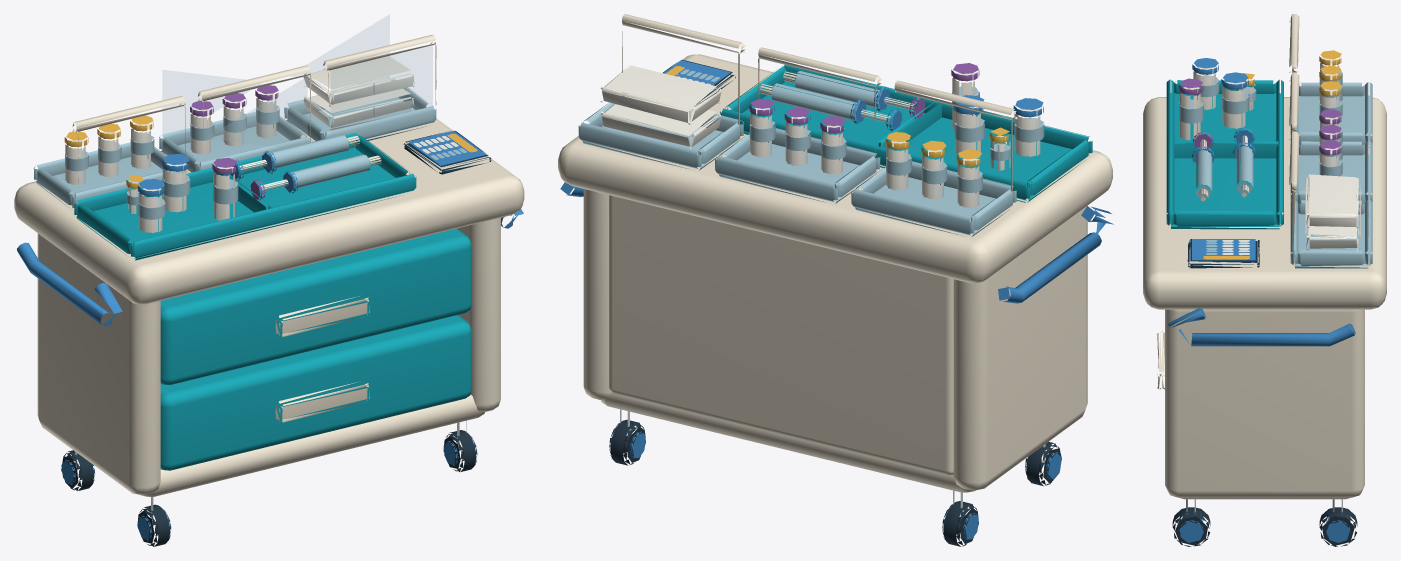
The model's file is SedaPrep_standard.glb.
3 views of the same model, side by side, from view 1: azimuth 30°, elevation 25°; view 2: azimuth 150°, elevation 25°; view 3: azimuth 270°, elevation 25° (orthographic). The views are drawn at different scales.
Visible parts, largest first — view 1: Static_CRNA_Gameplay_Atlas_PBR, Static_CRNA_Readable_Glass_Alpha; view 2: Static_CRNA_Gameplay_Atlas_PBR; view 3: Static_CRNA_Gameplay_Atlas_PBR.
Boxes of the visible parts, x1,y1,x2,y2 form: Static_CRNA_Gameplay_Atlas_PBR: (14, 34, 524, 546); Static_CRNA_Readable_Glass_Alpha: (162, 14, 432, 147); Static_CRNA_Gameplay_Atlas_PBR: (558, 14, 1113, 546); Static_CRNA_Gameplay_Atlas_PBR: (1143, 14, 1386, 546).
Bounding box in the file's own units: 1.12 × 0.9834 × 0.581.
2 materials, 1 textured.
